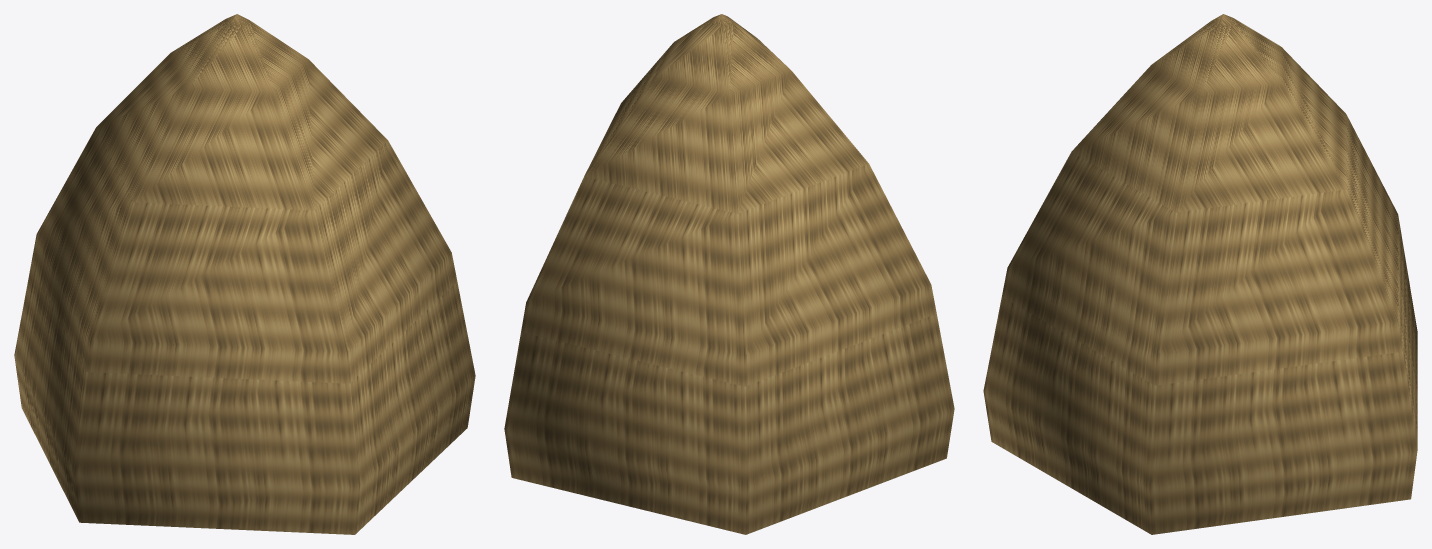
Rendered from Haystack_1_LOD2.gltf.
3 renders of one model, left to right at view 1: azimuth 30°, elevation 25°; view 2: azimuth 150°, elevation 25°; view 3: azimuth 270°, elevation 25°, orthographic. The views are drawn at different scales.
Visible parts, largest first — view 1: Haystack_1_LOD2; view 2: Haystack_1_LOD2; view 3: Haystack_1_LOD2.
Part boxes in pixels (bbox=[...]): Haystack_1_LOD2: bbox=[14, 14, 475, 534]; Haystack_1_LOD2: bbox=[504, 14, 954, 534]; Haystack_1_LOD2: bbox=[983, 14, 1417, 534].
Bounding box in the file's own units: 2.85 × 2.95 × 2.71.
1 material, 1 textured.
